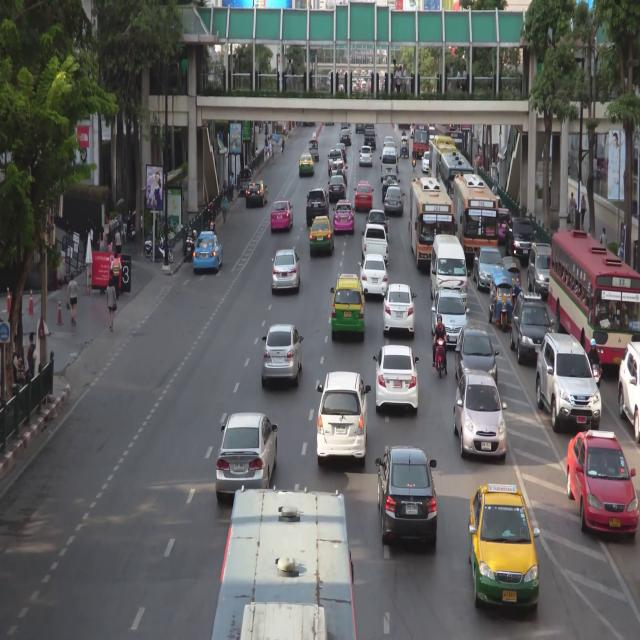bus: (212, 488, 357, 640), (548, 228, 640, 367), (453, 175, 499, 263), (411, 181, 455, 271), (437, 149, 474, 218), (434, 123, 465, 171), (430, 140, 455, 195), (415, 123, 430, 157)
car: (379, 446, 440, 551), (538, 335, 601, 433), (218, 417, 278, 499), (318, 371, 369, 466), (455, 370, 506, 463), (374, 341, 420, 412), (456, 321, 499, 392), (513, 289, 551, 361), (263, 321, 302, 384), (434, 237, 468, 306), (619, 341, 640, 440), (431, 292, 467, 348), (382, 283, 416, 335), (271, 251, 301, 293), (492, 270, 511, 331), (472, 250, 502, 287), (304, 187, 331, 228), (529, 240, 550, 292), (360, 255, 386, 296), (512, 218, 536, 262), (502, 252, 521, 298), (364, 223, 386, 262), (272, 198, 296, 232), (380, 146, 400, 182), (384, 183, 406, 215), (248, 180, 268, 206), (382, 172, 400, 197), (329, 177, 347, 200), (329, 149, 345, 169), (359, 146, 373, 166), (239, 172, 251, 195), (331, 161, 346, 179), (364, 130, 377, 148), (309, 140, 320, 160), (402, 135, 411, 158), (421, 152, 429, 175), (336, 139, 346, 157), (340, 130, 351, 146), (383, 135, 394, 147), (385, 142, 395, 152), (355, 124, 365, 133)
pedestrian: (107, 279, 117, 334), (69, 276, 78, 326), (113, 253, 121, 300), (27, 334, 35, 373), (115, 225, 124, 257), (221, 190, 228, 221), (569, 191, 575, 226), (580, 193, 586, 227), (99, 224, 106, 252), (228, 170, 234, 199), (618, 241, 625, 261), (270, 143, 276, 166), (601, 227, 607, 248), (281, 135, 284, 157), (108, 240, 113, 253)
taxi: (468, 486, 540, 616), (567, 428, 639, 541), (332, 275, 366, 341), (194, 230, 224, 272), (310, 214, 335, 256), (334, 197, 355, 232), (356, 181, 373, 210), (299, 151, 315, 177)
